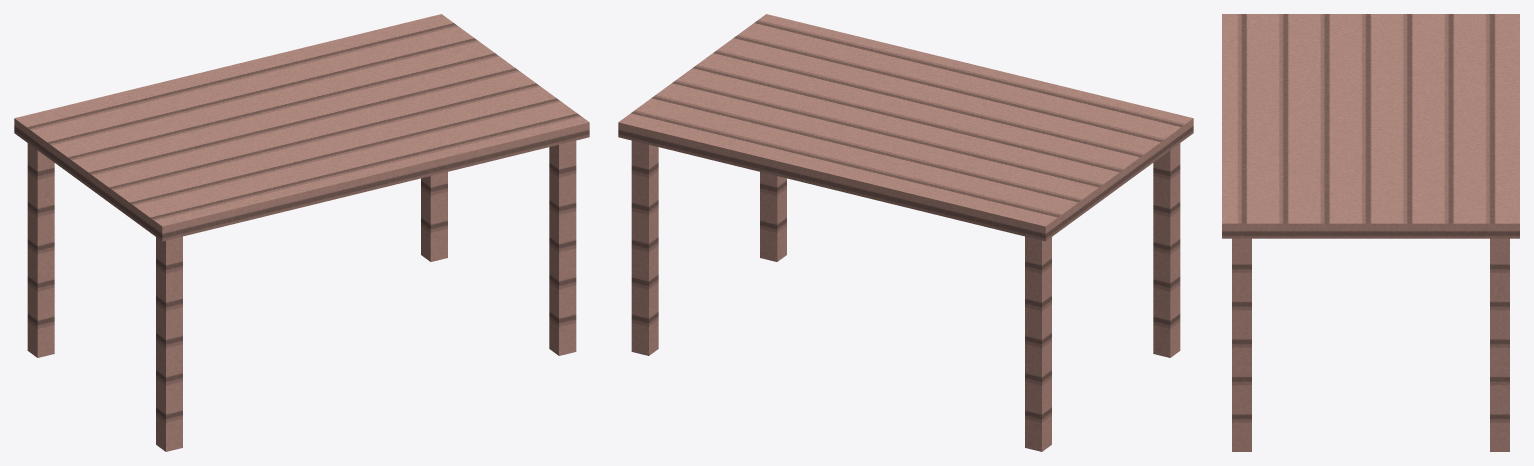
Rendered from dining_table.glb.
3 renders of one model, left to right at view 1: azimuth 30°, elevation 25°; view 2: azimuth 150°, elevation 25°; view 3: azimuth 270°, elevation 25°, orthographic.
Parts seen in each view (by area): view 1: dining_table-col; view 2: dining_table-col; view 3: dining_table-col.
Part boxes in pixels (x1,y1,x2,y2): dining_table-col: (14, 14, 589, 451); dining_table-col: (618, 14, 1193, 451); dining_table-col: (1222, 14, 1519, 451).
Bounding box in the file's own units: 1.5 × 0.775 × 0.9.
1 material, 1 textured.
